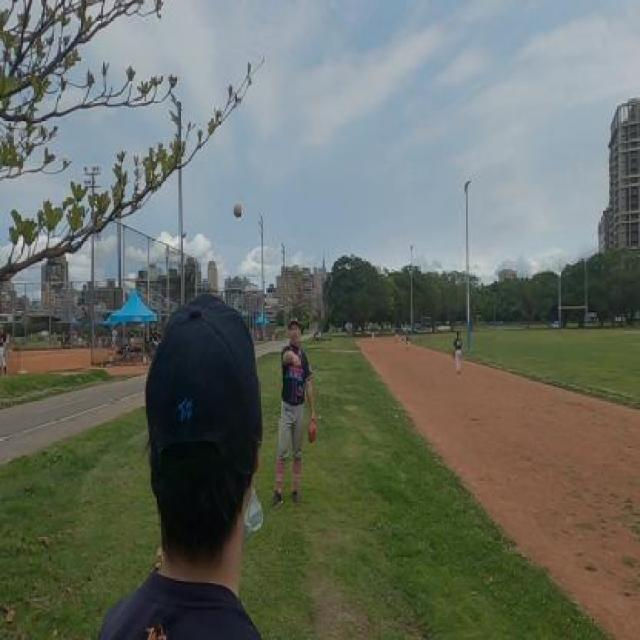baseball: (233, 202, 242, 218)
